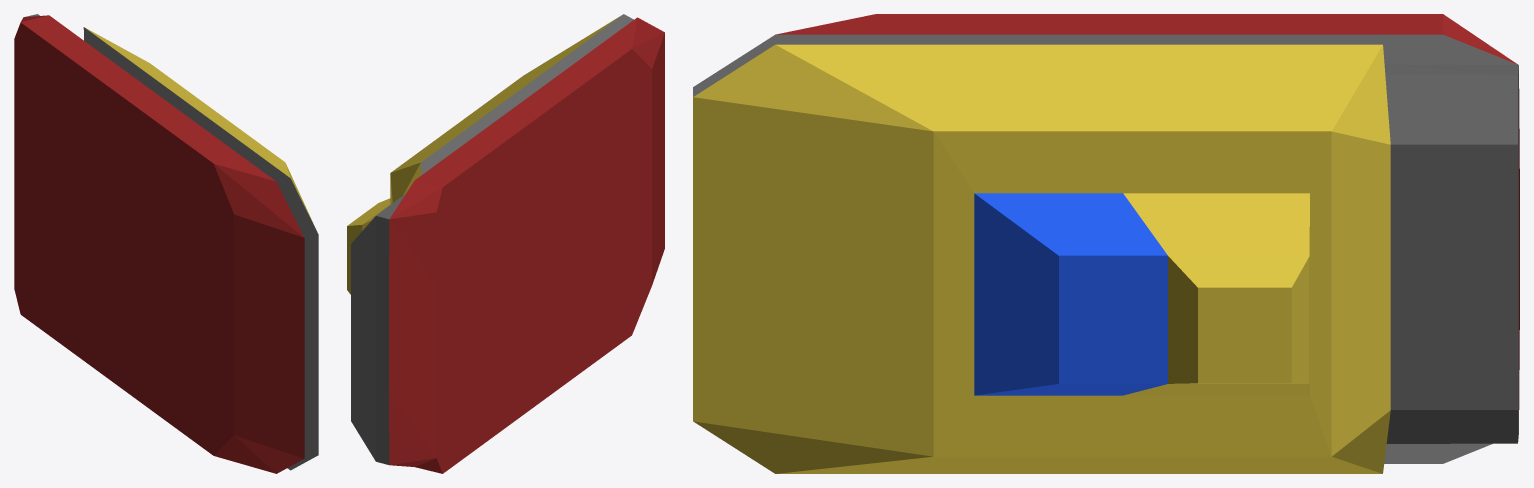
Rendered from machine1.obj.
3 views of the same model, side by side, from view 1: azimuth 30°, elevation 25°; view 2: azimuth 150°, elevation 25°; view 3: azimuth 270°, elevation 25° (orthographic). The views are drawn at different scales.
Parts seen in each view (by area): view 1: Box001; view 2: Box001; view 3: Box001.
Part boxes in pixels (x1,y1,x2,y2): Box001: [14, 14, 318, 473]; Box001: [347, 14, 664, 473]; Box001: [693, 14, 1519, 473].
Size of the model in its own units: 23.8 by 44.57 by 77.79.
